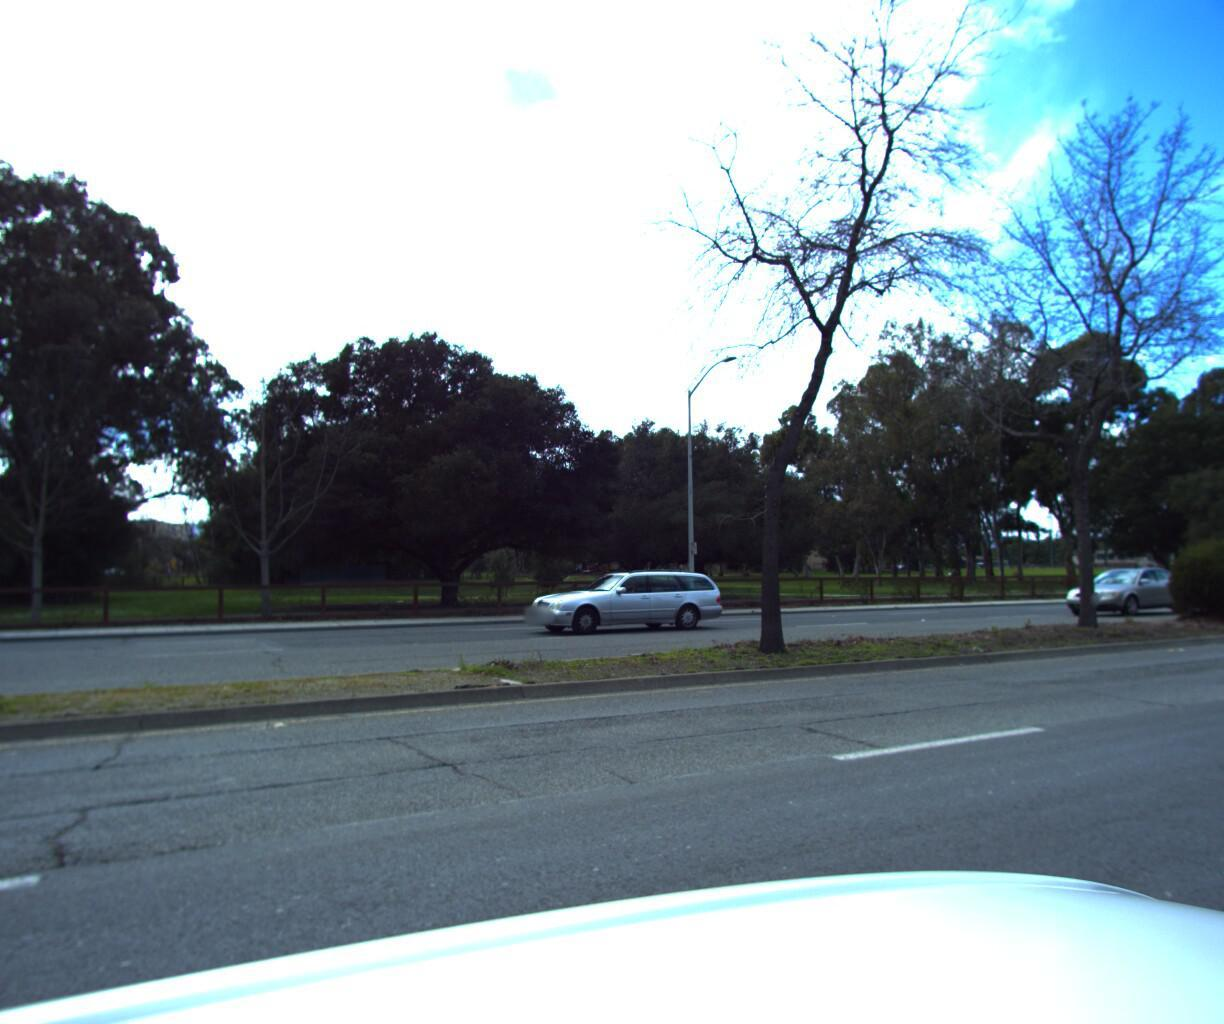car: (518, 567, 727, 637), (1053, 569, 1205, 621)
